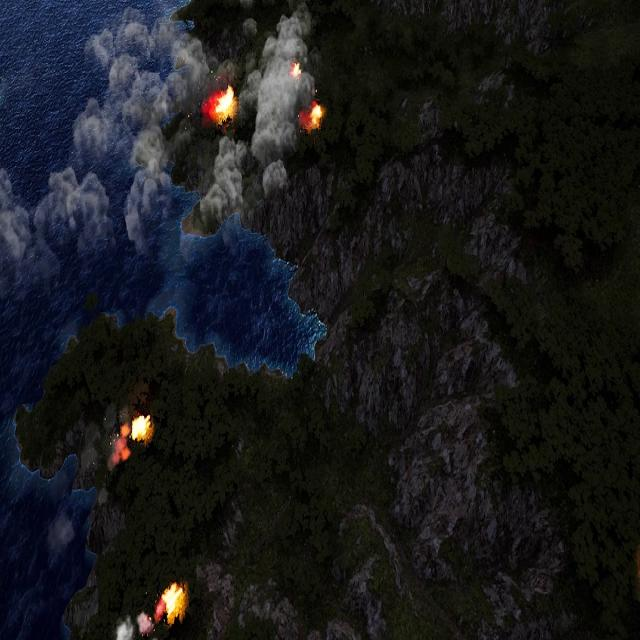fire: (205, 85, 238, 124), (159, 583, 188, 624), (302, 99, 326, 132), (128, 416, 152, 444), (290, 62, 301, 81)
smoke: (1, 0, 308, 289), (217, 2, 316, 206), (40, 399, 126, 562), (115, 609, 154, 640)
